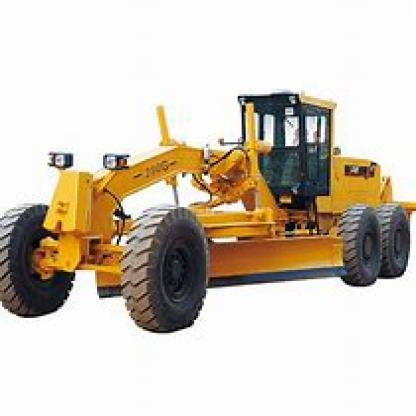bull_dozer/loader/grader: (2, 78, 414, 333)
